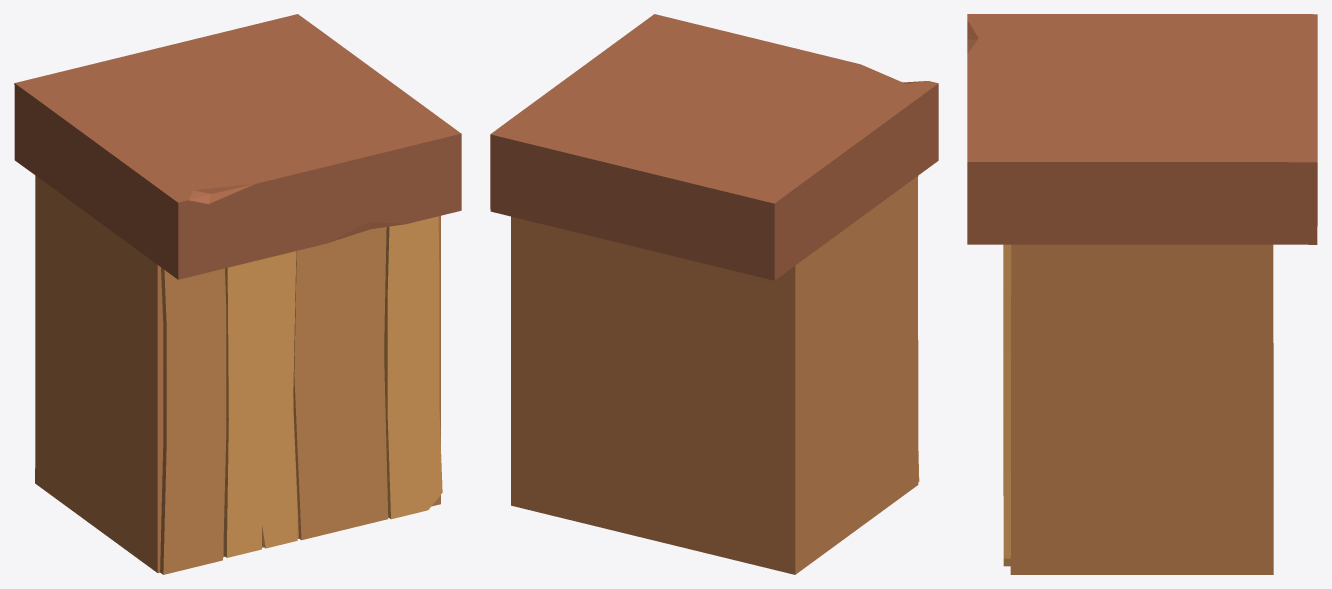
File: bar_1.fbx
3 renders of one model, left to right at view 1: azimuth 30°, elevation 25°; view 2: azimuth 150°, elevation 25°; view 3: azimuth 270°, elevation 25°, orthographic. The views are drawn at different scales.
Visible parts, largest first — view 1: pCube266; view 2: pCube266; view 3: pCube266.
Boxes of the visible parts, x1,y1,x2,y2 form: pCube266: (14, 14, 461, 574); pCube266: (490, 14, 938, 574); pCube266: (967, 14, 1317, 574).
Size of the model in its own units: 1 by 1.3 by 1.
